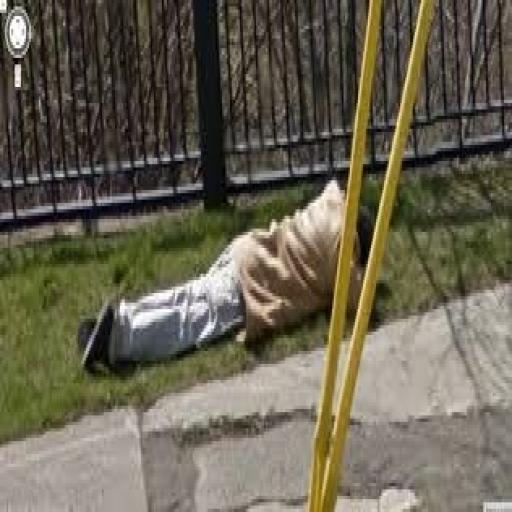sleeping: (74, 174, 382, 380)
